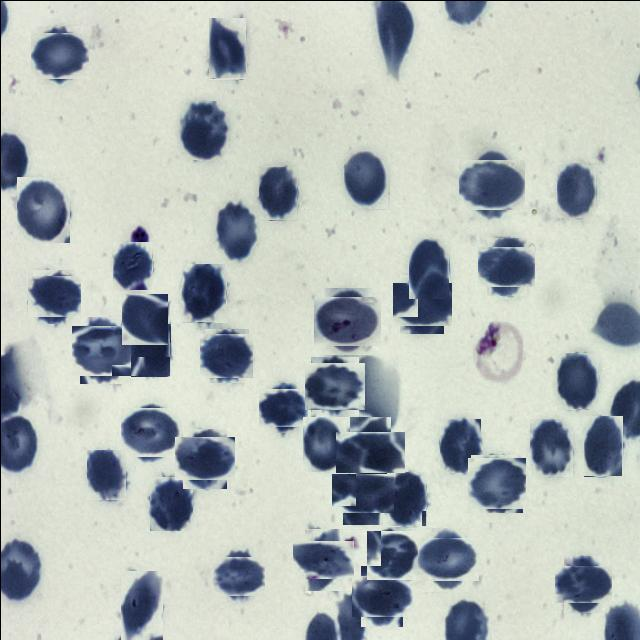red blood cell: (16, 176, 70, 243), (75, 320, 133, 379), (462, 154, 520, 212), (122, 404, 178, 459), (468, 456, 524, 510), (342, 424, 398, 478), (120, 570, 162, 640), (419, 532, 473, 586), (307, 359, 361, 413), (179, 100, 228, 159), (33, 28, 86, 80), (342, 150, 388, 209), (178, 432, 230, 484), (181, 263, 226, 322), (355, 570, 407, 621), (214, 199, 256, 262), (529, 418, 573, 477), (396, 278, 446, 329), (337, 468, 388, 518), (408, 238, 449, 299), (366, 529, 416, 579), (298, 534, 348, 584), (302, 416, 346, 472), (583, 414, 622, 476), (202, 330, 250, 380), (120, 294, 168, 344), (556, 352, 598, 409), (208, 16, 246, 78), (149, 476, 192, 530), (558, 560, 606, 608), (482, 242, 530, 290), (29, 272, 77, 320), (556, 162, 596, 218), (439, 418, 480, 472), (386, 471, 426, 526), (130, 323, 170, 376), (216, 552, 262, 598), (258, 166, 297, 220), (86, 449, 126, 500), (112, 241, 152, 290), (261, 385, 305, 429)
ring: (317, 292, 375, 349)
trophozoite: (474, 321, 522, 381)
